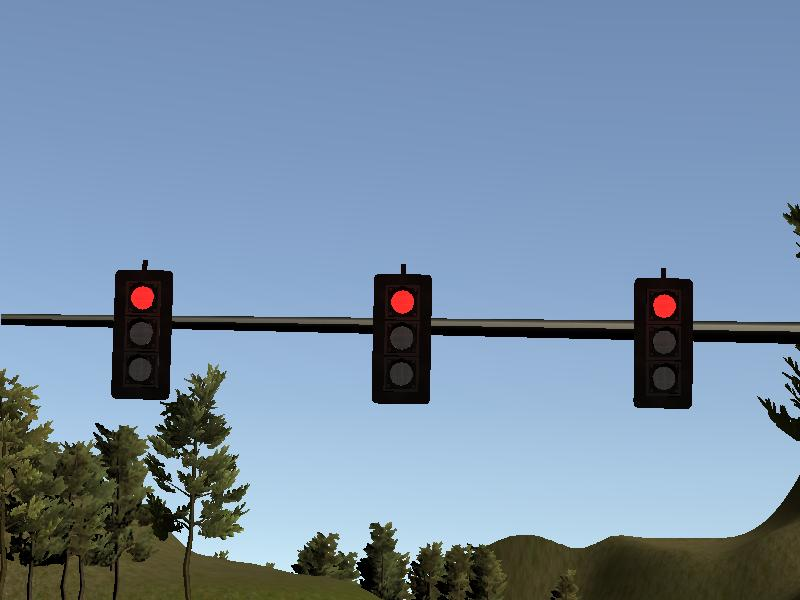red: (112, 271, 170, 400), (373, 273, 431, 402), (634, 278, 692, 407)
